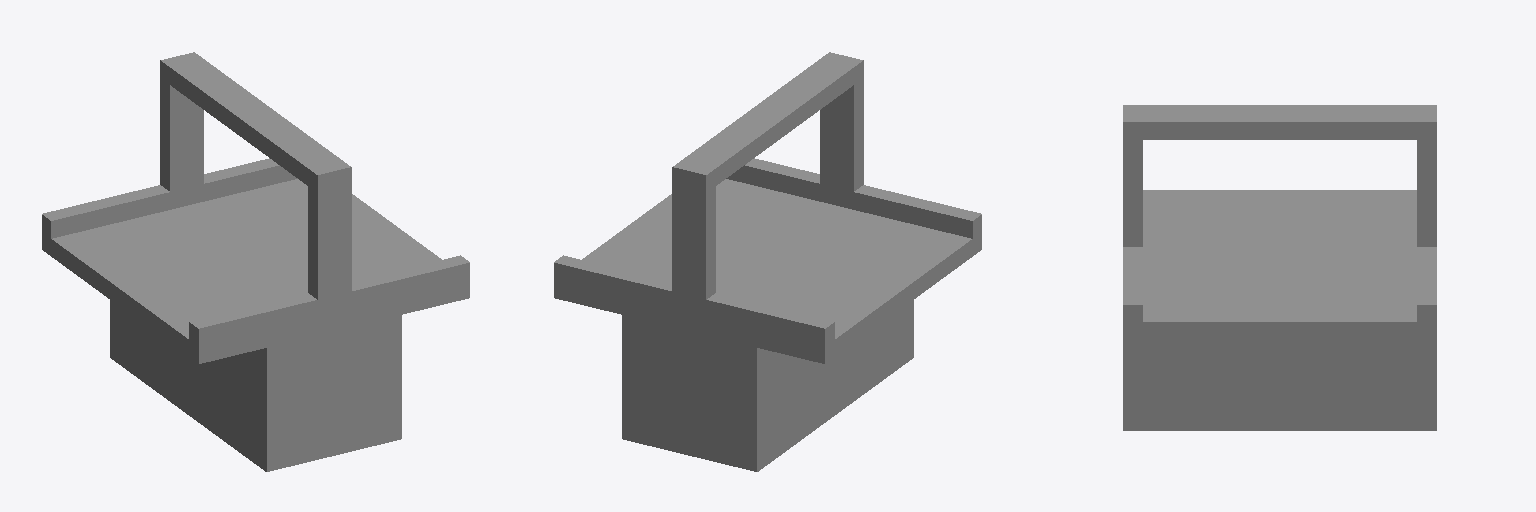
Rendered from circuitscribe.obj.
3 renders of one model, left to right at view 1: azimuth 30°, elevation 25°; view 2: azimuth 150°, elevation 25°; view 3: azimuth 270°, elevation 25°, orthographic.
Visible parts, largest first — view 1: Cube; view 2: Cube; view 3: Cube.
Part boxes in pixels (x1,y1,x2,y2): Cube: (42, 52, 469, 471); Cube: (554, 52, 981, 471); Cube: (1123, 105, 1436, 430).
Bounding box in the file's own units: 1 × 1 × 1.